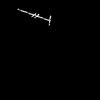treble_crochet: (23, 11, 50, 22)
